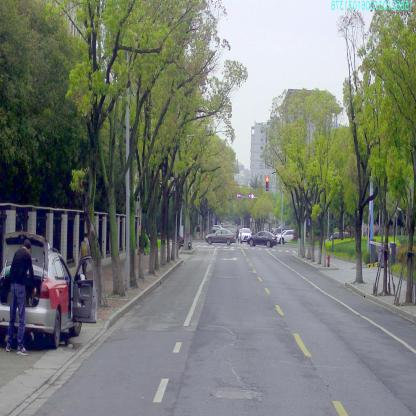traffic-light: (266, 176, 269, 191)
